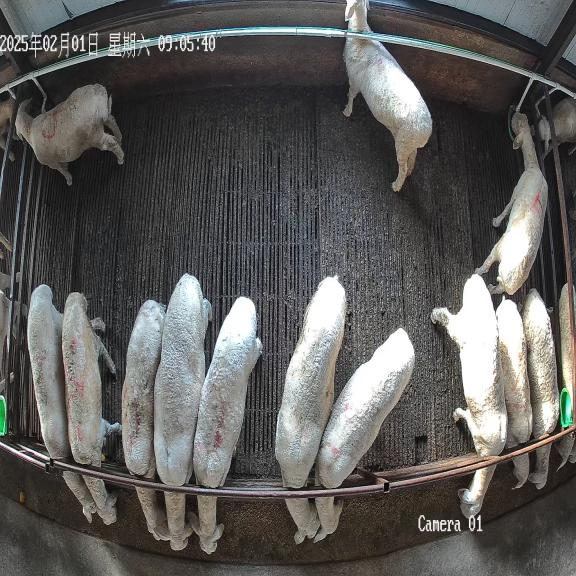drinking: (475, 113, 547, 295)
eating: (309, 328, 414, 542), (275, 276, 346, 544), (431, 274, 508, 518), (193, 296, 262, 554), (27, 284, 97, 522), (154, 273, 211, 550), (62, 292, 122, 524), (122, 300, 171, 540), (522, 288, 560, 489), (496, 298, 533, 489)
stand: (343, 0, 432, 192), (16, 84, 124, 185)
